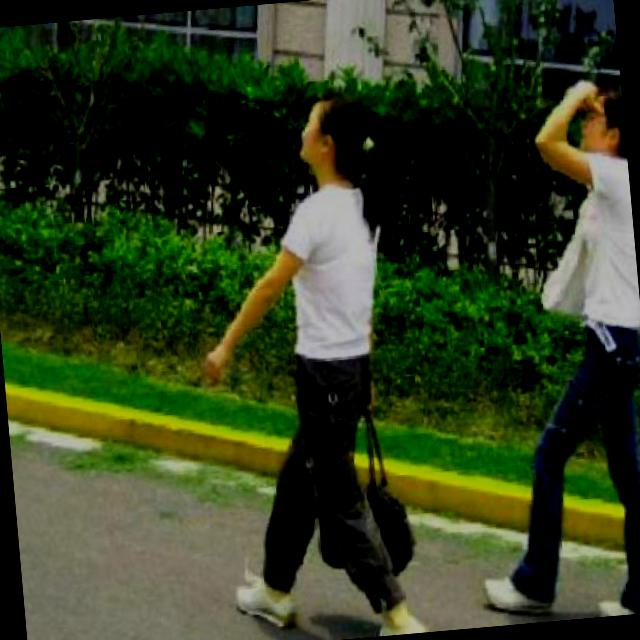Person: (165, 90, 434, 640), (429, 69, 640, 626)
